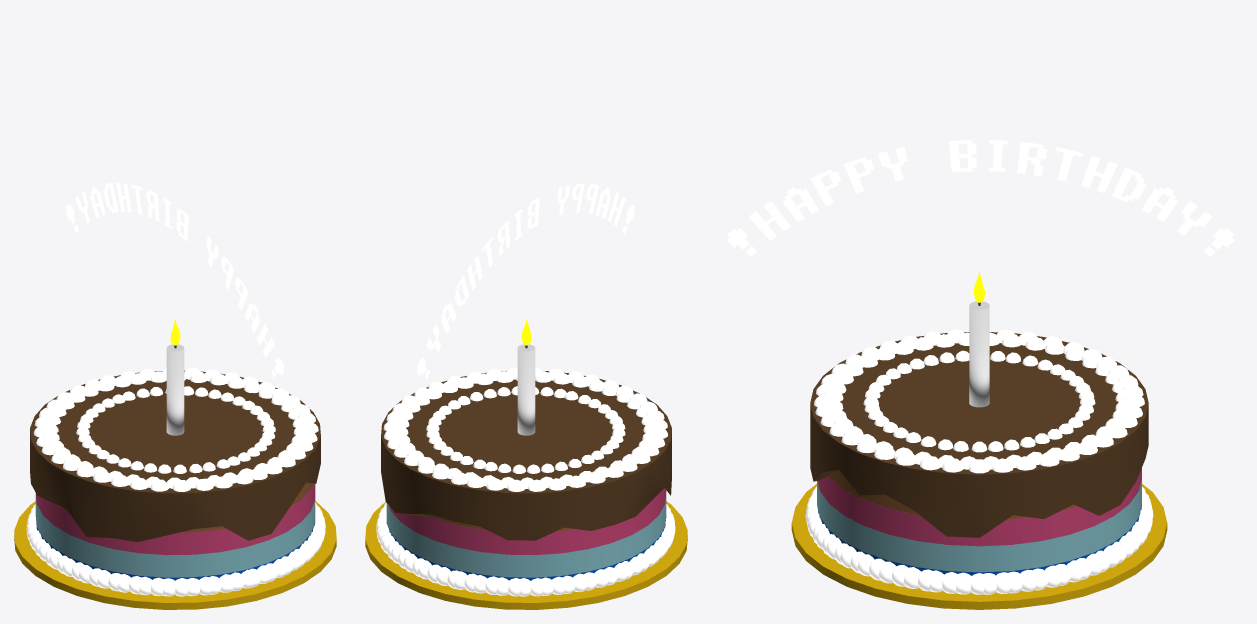
The model's file is asset.gltf.
The picture shows the model from 3 angles, left to right: view 1: azimuth 30°, elevation 25°; view 2: azimuth 150°, elevation 25°; view 3: azimuth 270°, elevation 25°; orthographic projection. The views are drawn at different scales.
Visible parts, largest first — view 1: BR_D-material, White-material, B-material, Gold-material, R-material, Plane, W-material, Material_001-material; view 2: BR_D-material, White-material, B-material, Gold-material, R-material, Plane, W-material, Material_001-material; view 3: BR_D-material, White-material, B-material, Plane, Gold-material, R-material, W-material, Brown-material, Material_001-material.
Boxes of the visible parts, left/top/right/bottom form: BR_D-material: left=30, top=370, right=320, bottom=541; White-material: left=26, top=367, right=325, bottom=596; B-material: left=35, top=493, right=315, bottom=577; Gold-material: left=14, top=501, right=336, bottom=609; R-material: left=36, top=483, right=315, bottom=555; Plane: left=65, top=182, right=284, bottom=377; W-material: left=166, top=344, right=184, bottom=435; Material_001-material: left=35, top=516, right=314, bottom=580; BR_D-material: left=381, top=371, right=671, bottom=540; White-material: left=376, top=367, right=675, bottom=596; B-material: left=386, top=493, right=666, bottom=577; Gold-material: left=365, top=501, right=687, bottom=609; R-material: left=389, top=488, right=666, bottom=555; Plane: left=416, top=183, right=635, bottom=378; W-material: left=517, top=344, right=535, bottom=435; Material_001-material: left=386, top=516, right=666, bottom=580; BR_D-material: left=810, top=332, right=1148, bottom=537; White-material: left=805, top=329, right=1153, bottom=594; B-material: left=817, top=479, right=1141, bottom=572; Plane: left=726, top=140, right=1234, bottom=256; Gold-material: left=791, top=484, right=1167, bottom=609; R-material: left=817, top=468, right=1141, bottom=546; W-material: left=969, top=301, right=989, bottom=407; Brown-material: left=828, top=471, right=1076, bottom=518; Material_001-material: left=817, top=505, right=1141, bottom=575.
Size of the model in its own units: 2.31 by 3.51 by 3.24.
Materials: 11 (1 with a texture image).
